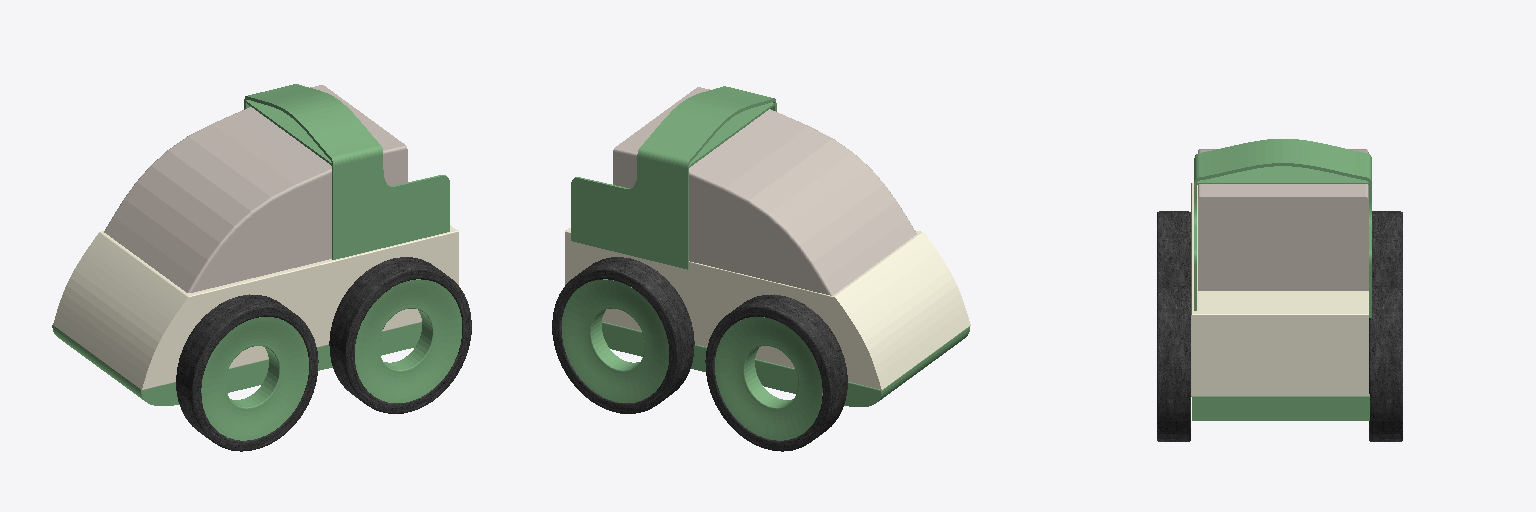
The picture shows the model from 3 angles: view 1: azimuth 30°, elevation 25°; view 2: azimuth 150°, elevation 25°; view 3: azimuth 270°, elevation 25°; orthographic projection.
Visible parts, largest first — view 1: Car_3; view 2: Car_3; view 3: Car_3.
Part boxes in pixels (bbox=[...]): Car_3: bbox=[52, 84, 471, 451]; Car_3: bbox=[552, 86, 970, 451]; Car_3: bbox=[1157, 139, 1402, 441].
Size of the model in its own units: 0.2094 by 0.1694 by 0.1408.
4 materials, 1 textured.